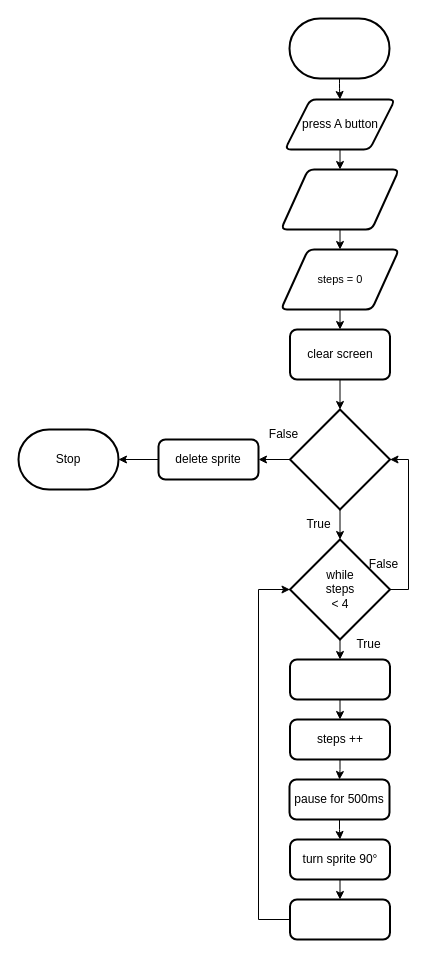
Some shapes in this 434 by 957 pixel diagram are drawn without their labels. The centre of each missing label's shape, as x and y in pixels:
"loopcounter ++" goes at (x=339, y=919).
"loopCounter = 0" goes at (x=340, y=199).
"move sprite 1 step" goes at (x=339, y=679).
"Start" goes at (x=339, y=48).
"while loopCounter < 4" goes at (x=339, y=459).
